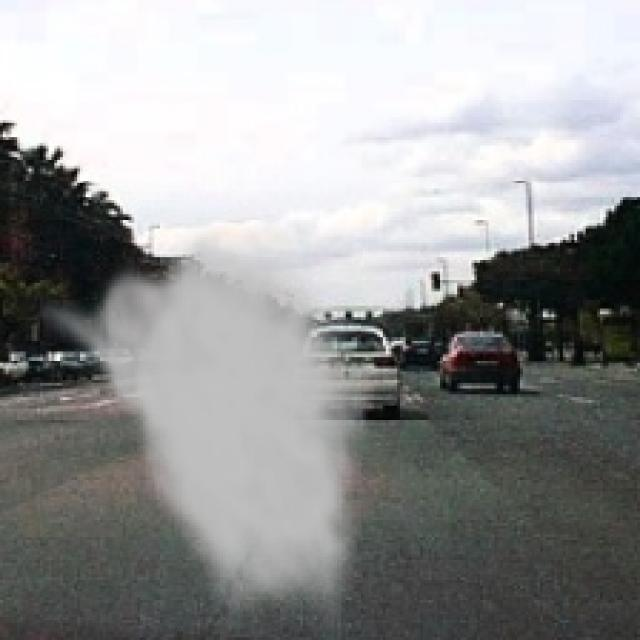Smoke: (32, 217, 374, 634)
